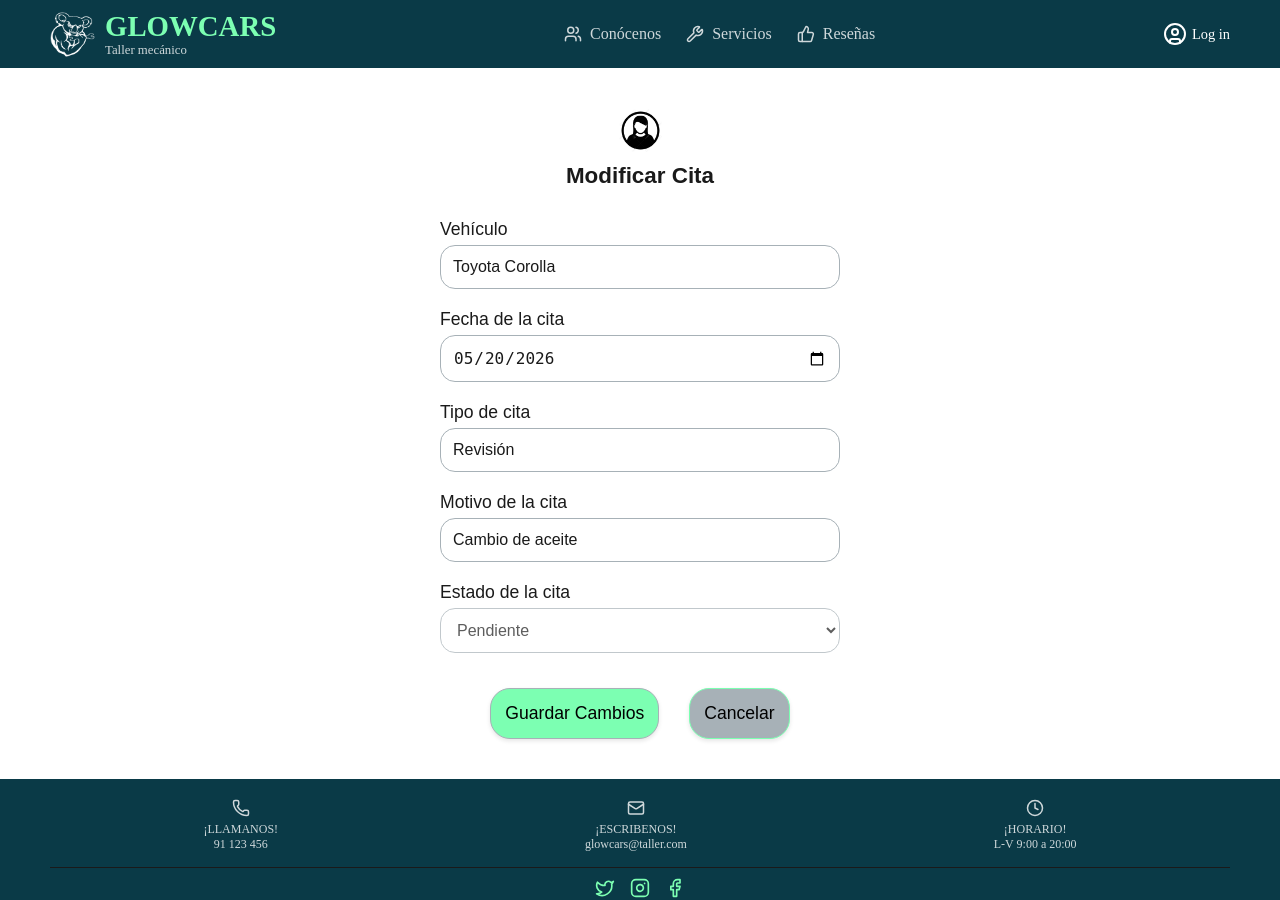
Scenario: Pruebas en <ModificarCitas /> › debe mostrar el modal de éxito al actualizar correctamente
Click the button "Guardar Cambios" at [575, 714], box [490,688,659,739]
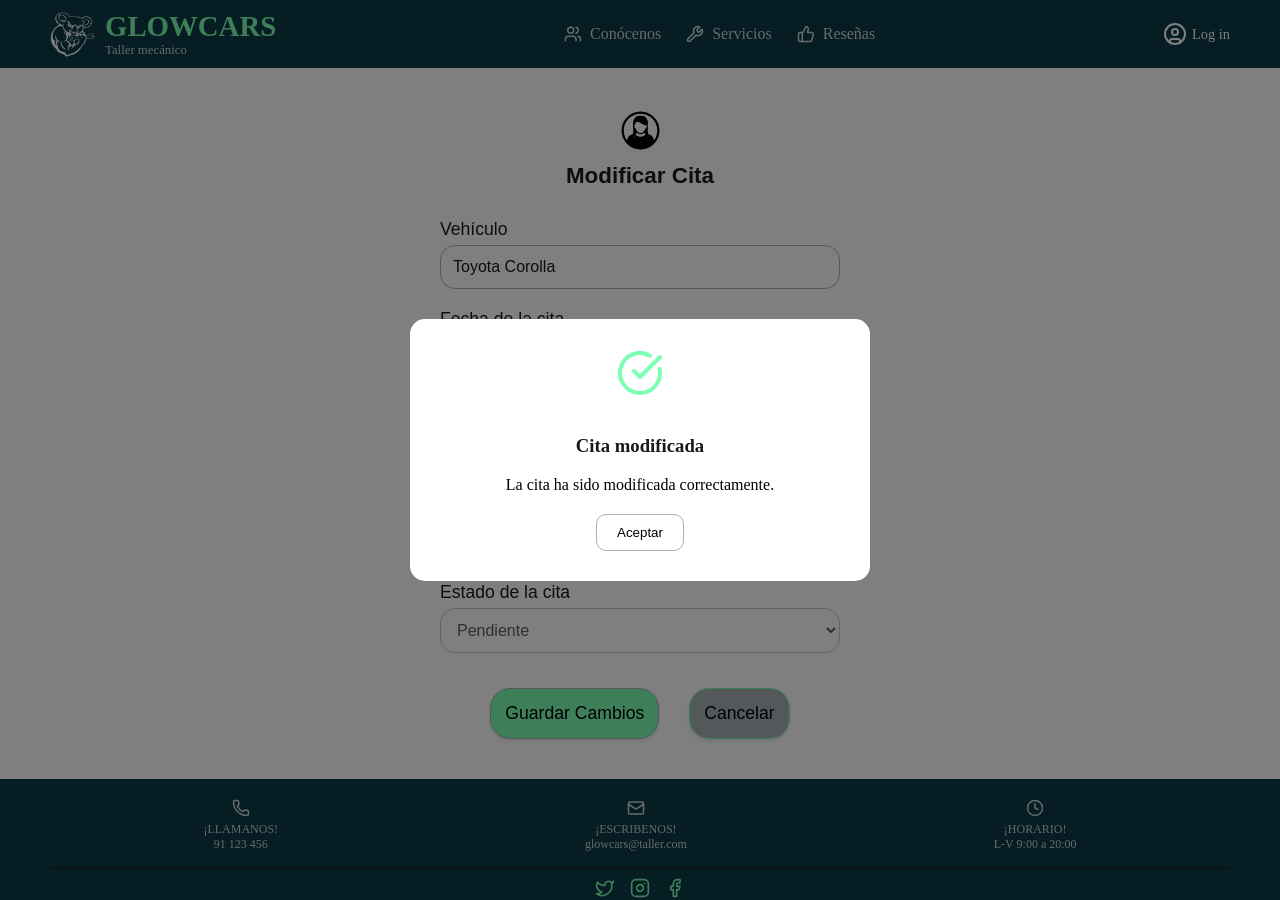
Now the heading "Cita modificada" is shown, box [576,435,704,456]
